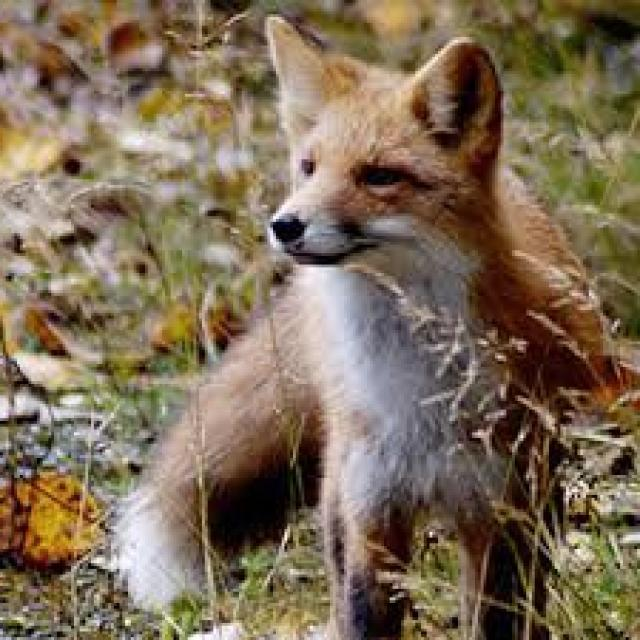fox: (117, 14, 637, 637)
